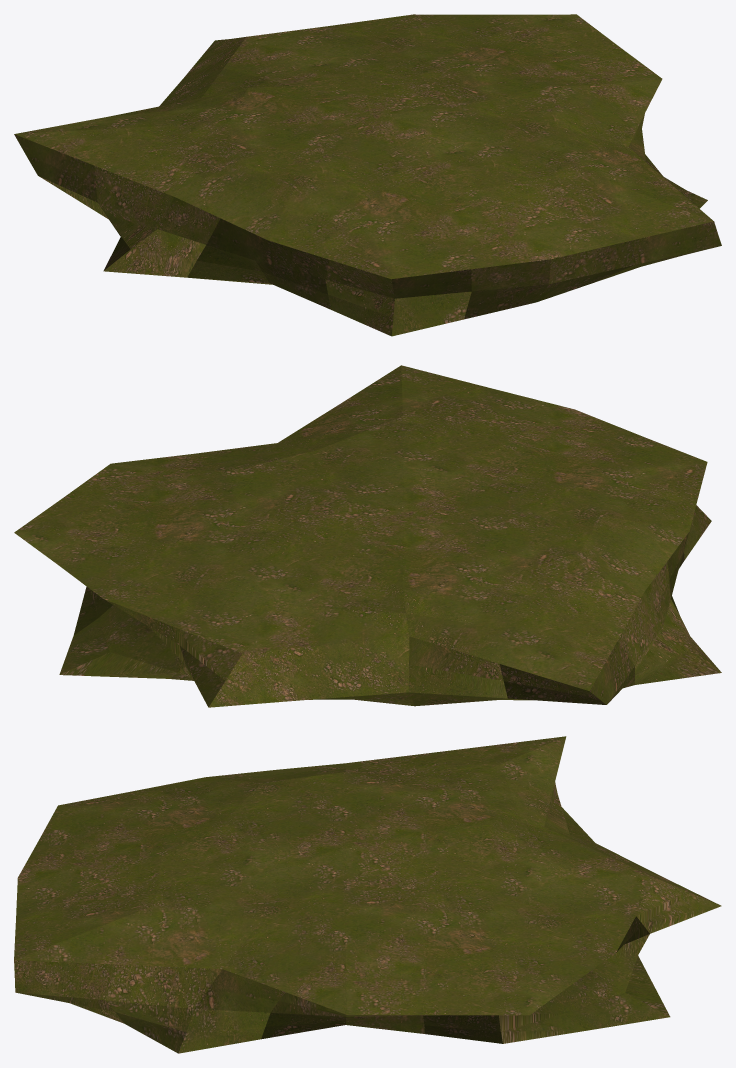
Rendered from slab_1.glb.
3 renders of one model, top to bottom at view 1: azimuth 30°, elevation 25°; view 2: azimuth 150°, elevation 25°; view 3: azimuth 270°, elevation 25°, orthographic. The views are drawn at different scales.
Visible parts, largest first — view 1: slab; view 2: slab; view 3: slab.
Part boxes in pixels (x1,y1,x2,y2): slab: [14, 14, 721, 336]; slab: [14, 365, 721, 707]; slab: [14, 736, 721, 1053].
Bounding box in the file's own units: 3.39 × 0.6226 × 3.53.
Materials: 1 (1 with a texture image).
